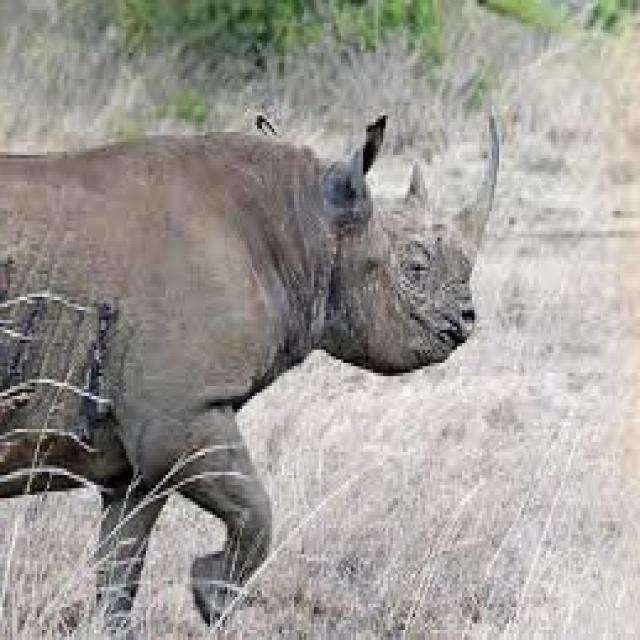rhinoceros: (2, 115, 499, 637)
